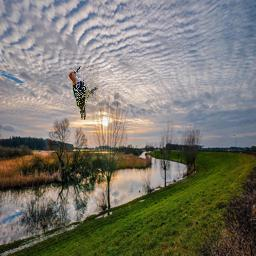Woodpecker: (67, 65, 99, 120)
